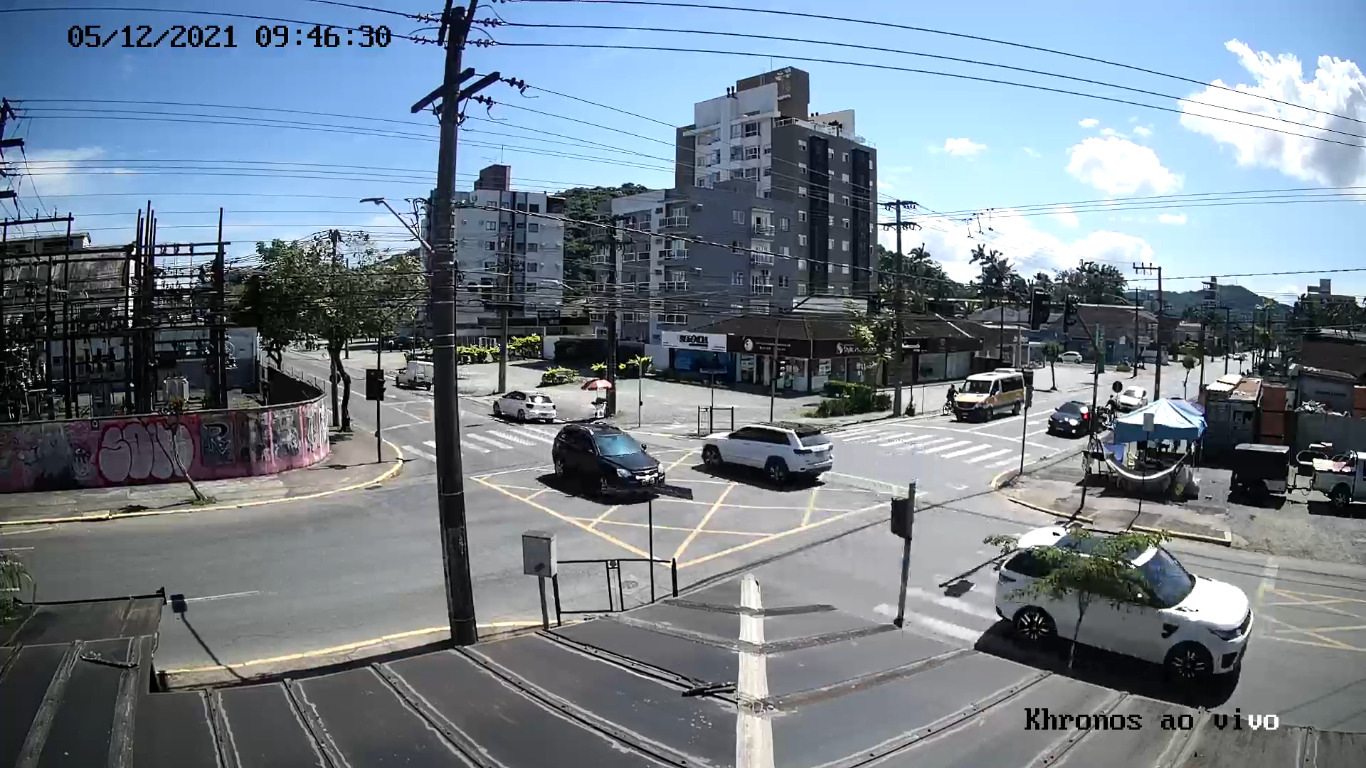car: (995, 526, 1253, 684), (552, 422, 665, 502), (700, 421, 835, 487)
